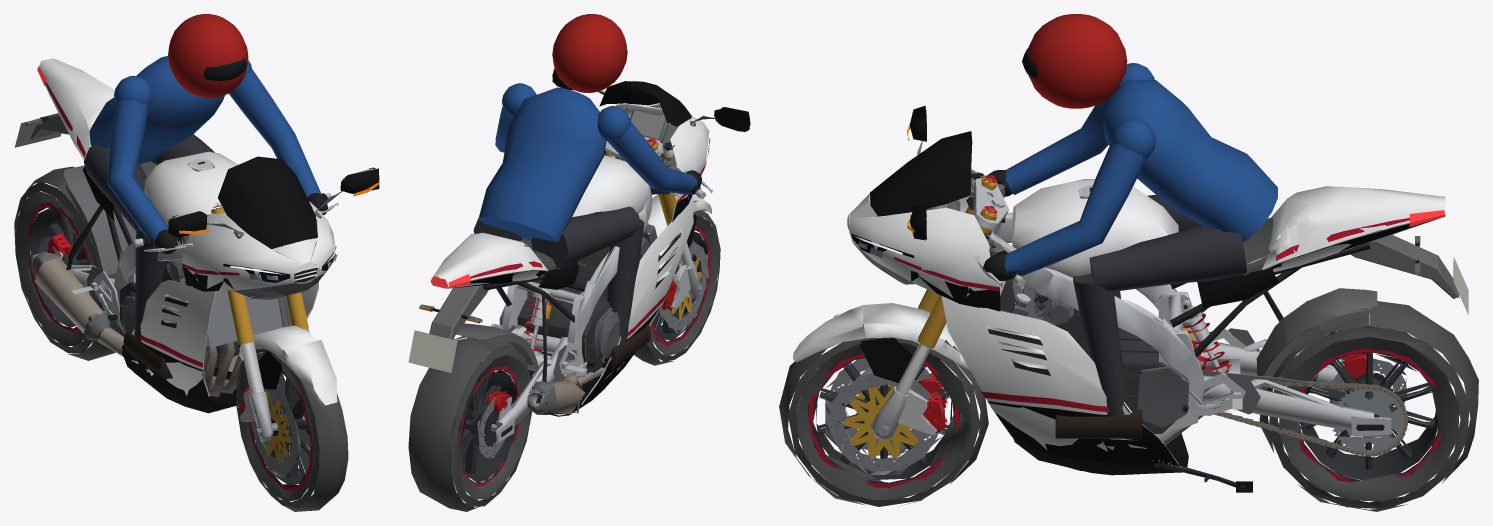
The model's file is vb_sport.glb.
3 views of the same model, side by side, from view 1: azimuth 30°, elevation 25°; view 2: azimuth 150°, elevation 25°; view 3: azimuth 270°, elevation 25° (orthographic). The views are drawn at different scales.
Visible parts, largest first — view 1: body, rider_torso, wheel_front, fork, wheel_rear, rider_head, rider_legs; view 2: body, rider_torso, wheel_rear, rider_legs, wheel_front, rider_head, fork; view 3: body, wheel_rear, rider_torso, wheel_front, rider_legs, fork, rider_head.
Boxes of the visible parts, x1,y1,x2,y2 form: body: (14,58,379,413); rider_torso: (89,56,327,254); wheel_front: (236,347,348,511); fork: (134,192,338,441); wheel_rear: (14,166,124,360); rider_head: (168,14,248,98); rider_legs: (83,134,214,378); body: (408,68,750,443); rider_torso: (479,83,701,242); wheel_rear: (408,336,532,511); rider_legs: (473,206,650,368); wheel_front: (634,201,720,365); rider_head: (552,14,627,92); fork: (604,137,713,309); body: (847,105,1468,492); wheel_rear: (1259,301,1478,511); rider_torso: (983,63,1277,280); wheel_front: (779,324,988,506); rider_legs: (1055,194,1246,438); fork: (793,172,1025,439); rider_head: (1022,14,1127,108).
Bounding box in the file's own units: 0.81 × 1.56 × 2.02.
